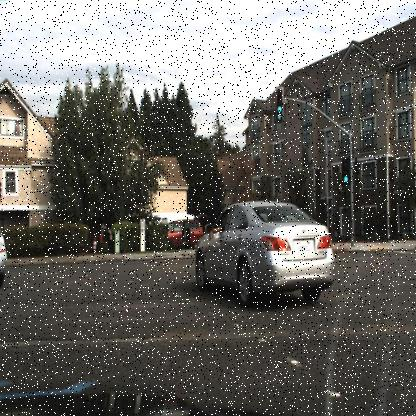car: (195, 198, 338, 306), (160, 216, 204, 249)
trafficLight: (340, 151, 353, 193), (276, 84, 285, 124), (4, 176, 16, 199)
